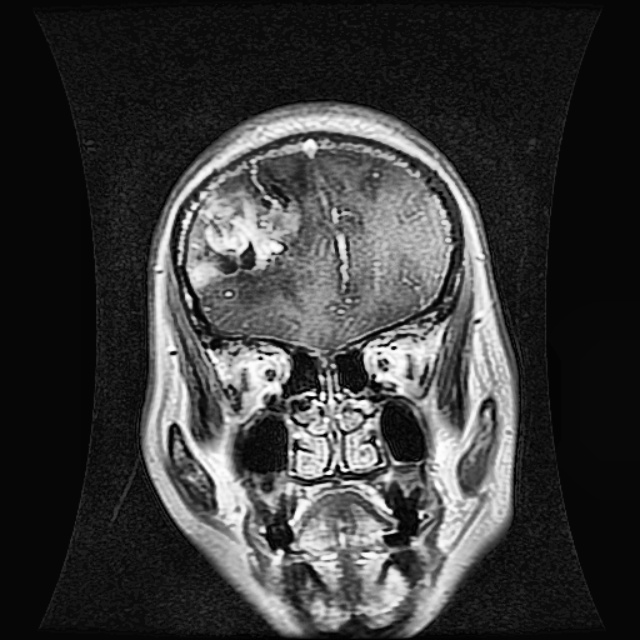Meningioma: (185, 167, 304, 288)
